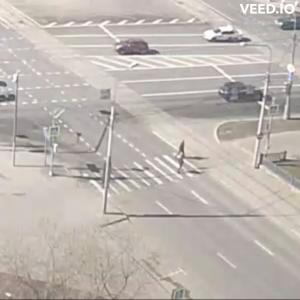car: (212, 80, 267, 104), (205, 26, 252, 45), (115, 40, 155, 59), (274, 16, 300, 33), (1, 80, 18, 105)
